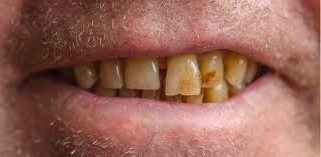Tooth Discoloration: (154, 50, 260, 106)
